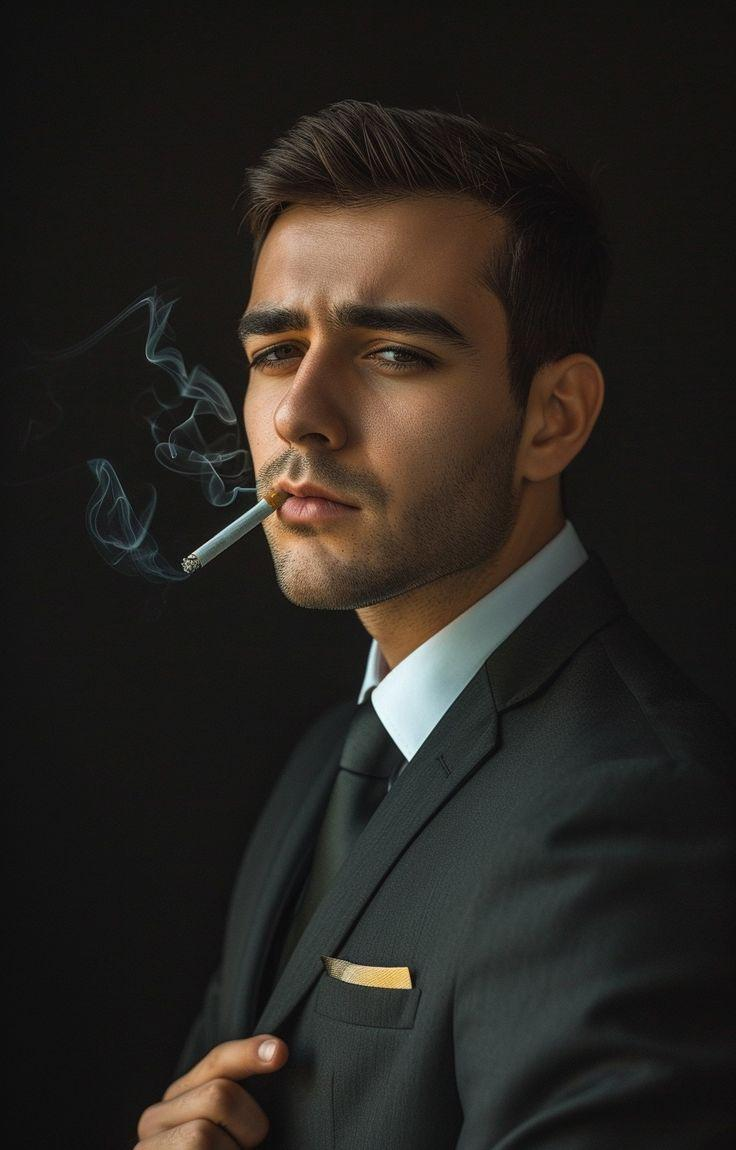cigarette: (181, 487, 291, 576)
